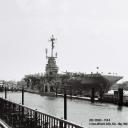Portanaves: (24, 33, 126, 102)
